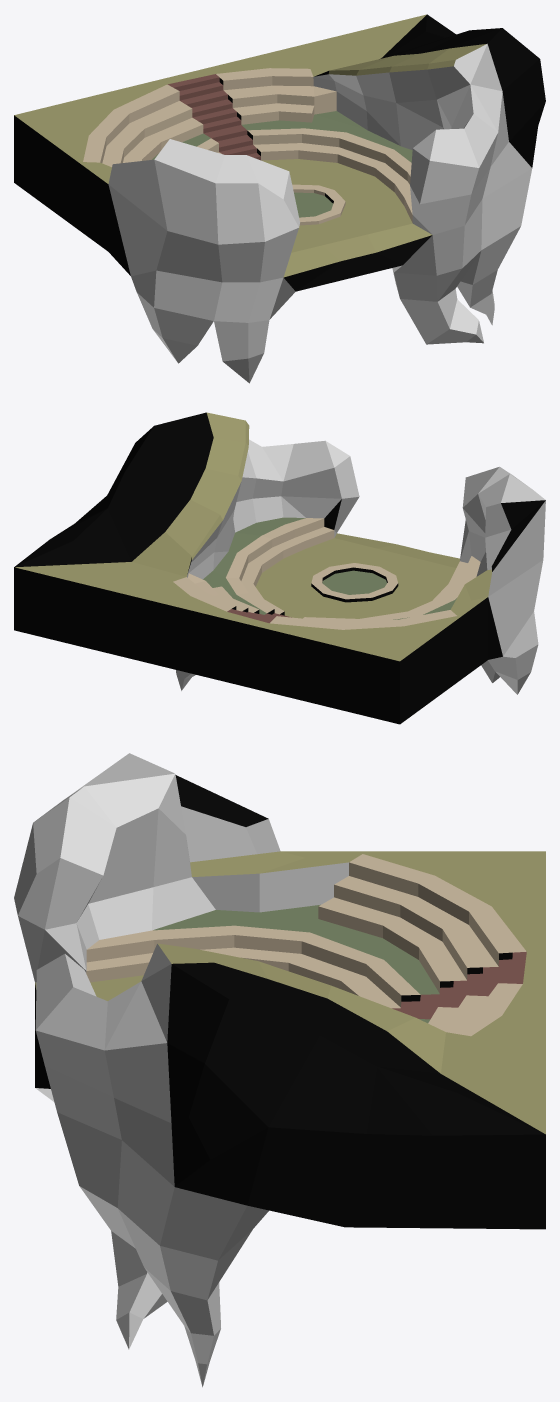
File: DarkSoilFloorLargeAmphitheatre1.fbx
The picture shows the model from 3 angles, top to bottom: view 1: azimuth 30°, elevation 25°; view 2: azimuth 150°, elevation 25°; view 3: azimuth 270°, elevation 25°; orthographic projection. The views are drawn at different scales.
Visible parts, largest first — view 1: Soil, Grass, StoneSteps, WoodSteps; view 2: Soil, Grass, StoneSteps; view 3: Soil, Grass, StoneSteps, WoodSteps.
Part boxes in pixels (box(x1,y1,x2,y2)): Soil: box(14, 28, 545, 383); Grass: box(14, 14, 501, 277); StoneSteps: box(83, 68, 412, 225); WoodSteps: box(167, 74, 260, 160); Soil: box(14, 426, 545, 724); Grass: box(14, 412, 491, 661); StoneSteps: box(173, 518, 480, 629); Soil: box(14, 753, 545, 1387); Grass: box(35, 851, 545, 1135); StoneSteps: box(86, 854, 526, 1036); WoodSteps: box(392, 951, 526, 1019).
Bounding box in the file's own units: 2947 × 1959 × 2286.
